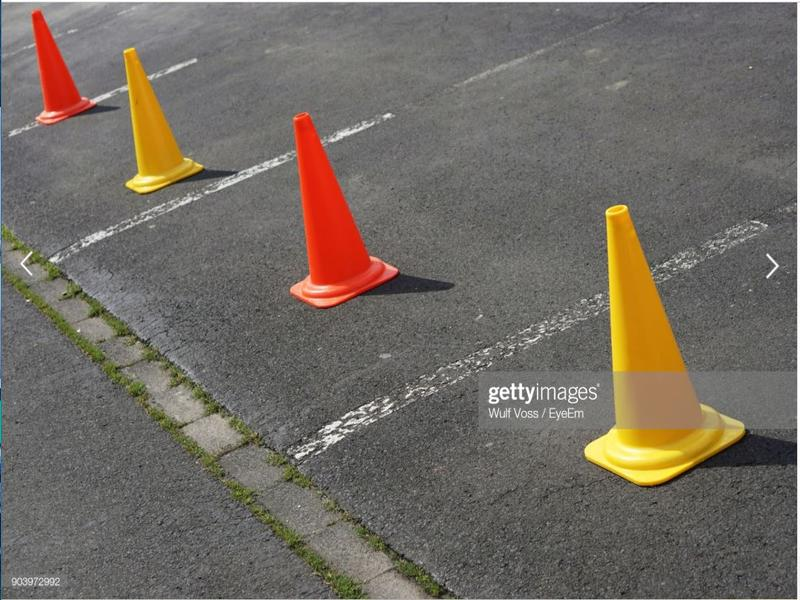Cone: (289, 113, 400, 309), (30, 8, 96, 125)
